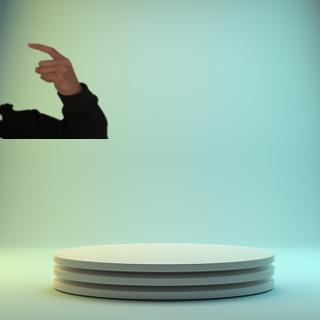WHY: (23, 38, 81, 96)
